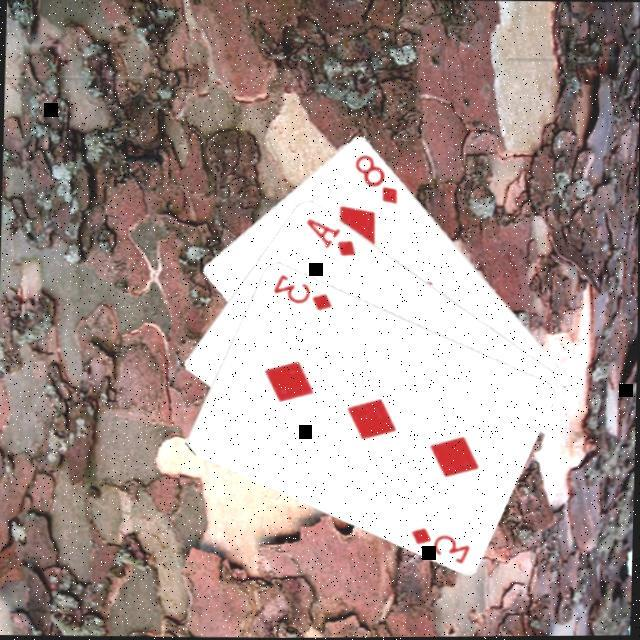3D: (404, 524, 472, 568), (267, 270, 334, 314)
8D: (349, 150, 400, 208)
AD: (300, 214, 358, 260)
